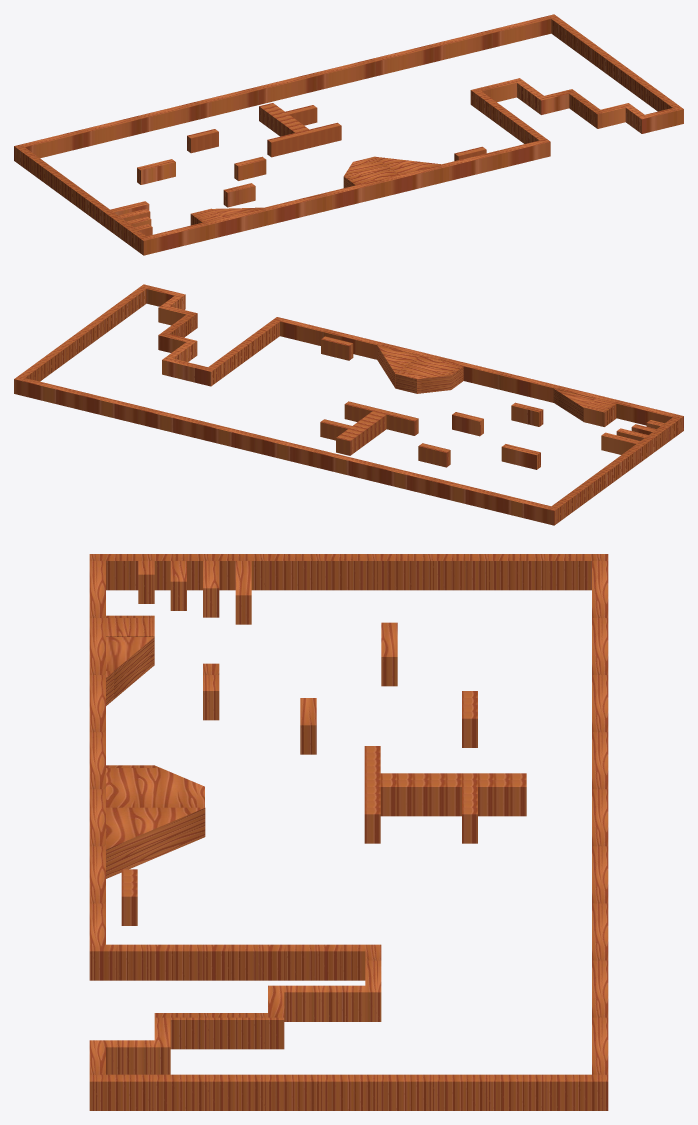
File: level01.fbx
3 views of the same model, one above another, from view 1: azimuth 30°, elevation 25°; view 2: azimuth 150°, elevation 25°; view 3: azimuth 270°, elevation 25° (orthographic). The views are drawn at different scales.
Visible parts, largest first — view 1: Plane, Cube.009, Ramp; view 2: Plane, Cube.009, Ramp, Ramp.001; view 3: Plane, Ramp, Cube.009, Ramp.001.
Boxes of the visible parts, bbox=[...] form: Plane: bbox=[14, 14, 683, 255]; Cube.009: bbox=[343, 156, 398, 187]; Ramp: bbox=[375, 156, 440, 174]; Plane: bbox=[14, 284, 683, 525]; Cube.009: bbox=[395, 356, 463, 393]; Ramp: bbox=[377, 345, 419, 388]; Ramp.001: bbox=[553, 388, 594, 421]; Plane: bbox=[89, 554, 608, 1110]; Ramp: bbox=[106, 807, 205, 878]; Cube.009: bbox=[106, 765, 204, 807]; Ramp.001: bbox=[106, 637, 154, 705].
Size of the model in its own units: 77 by 2.02 by 32.
